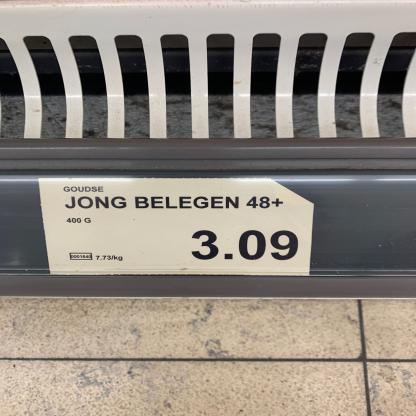prtg: (39, 179, 317, 276)
